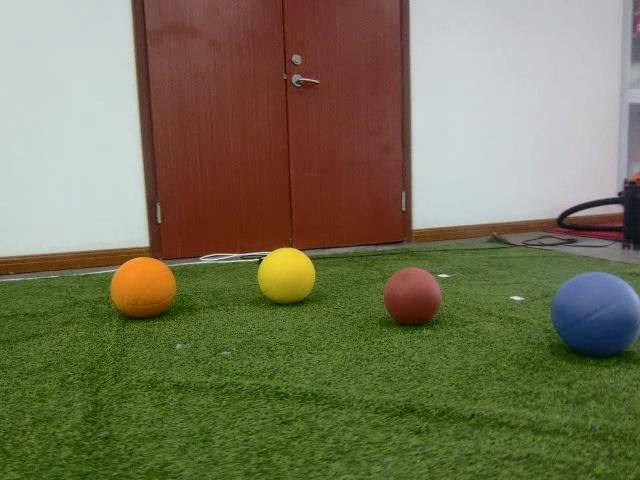blue_ball: (548, 270, 640, 361)
orange_ball: (108, 255, 177, 320)
red_ball: (385, 266, 442, 325)
yellow_ball: (256, 246, 316, 305)
